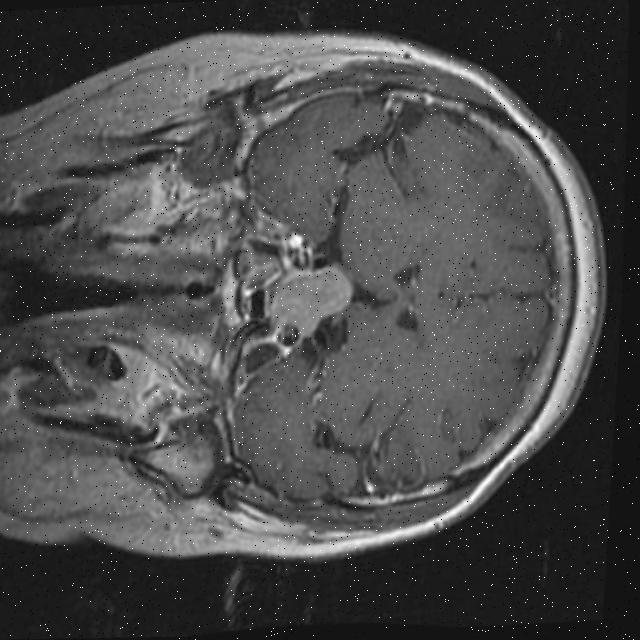Pituitary: (267, 259, 353, 336)
